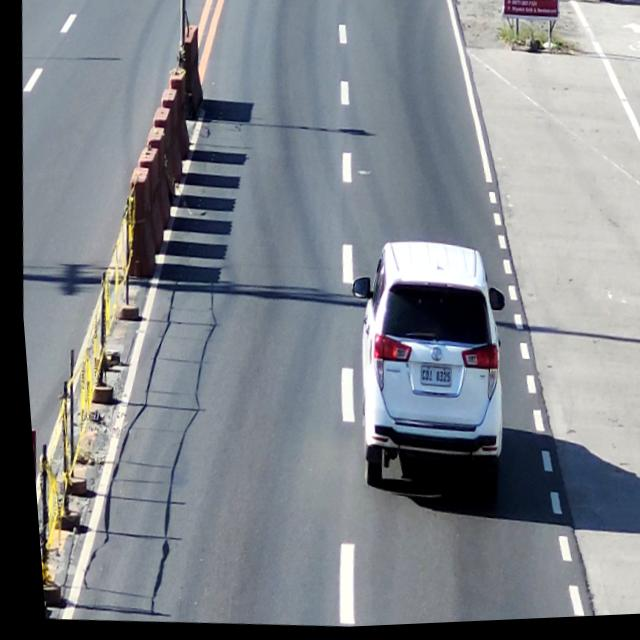Car: (337, 236, 519, 518)
License-Plate: (407, 357, 451, 397)
